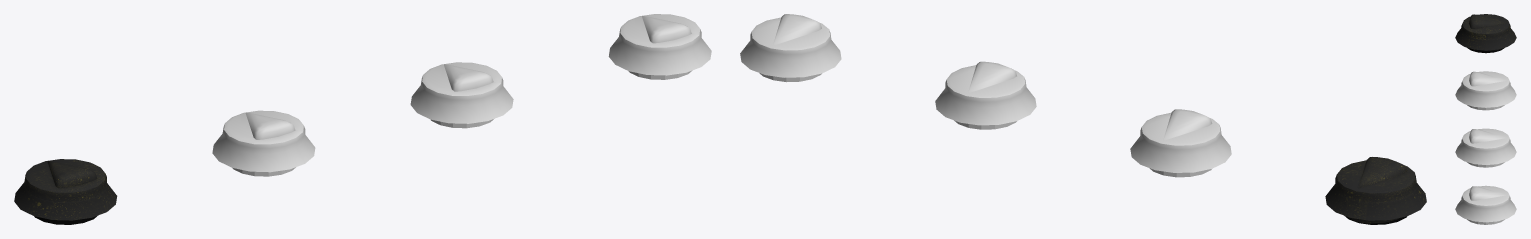
The model's file is Hob Dial.FBX.
The picture shows the model from 3 angles, left to right: view 1: azimuth 30°, elevation 25°; view 2: azimuth 150°, elevation 25°; view 3: azimuth 270°, elevation 25°; orthographic projection. The views are drawn at different scales.
Parts seen in each view (by area): view 1: hob_dial_3, hob_dial_2, hob_dial_4, hob_dial_1; view 2: hob_dial_3, hob_dial_2, hob_dial_1, hob_dial_4; view 3: hob_dial_1, hob_dial_2, hob_dial_4, hob_dial_3.
Part boxes in pixels (<box>): hob_dial_3: <box>410,62,513,128</box>; hob_dial_2: <box>212,110,315,176</box>; hob_dial_4: <box>608,14,711,79</box>; hob_dial_1: <box>14,159,117,224</box>; hob_dial_3: <box>935,61,1036,129</box>; hob_dial_2: <box>1130,109,1231,177</box>; hob_dial_1: <box>1325,157,1426,224</box>; hob_dial_4: <box>740,14,841,82</box>; hob_dial_1: <box>1455,14,1516,53</box>; hob_dial_2: <box>1455,71,1516,110</box>; hob_dial_4: <box>1455,185,1516,224</box>; hob_dial_3: <box>1455,128,1516,167</box>.
Bounding box in the file's own units: 24.98 × 1.55 × 3.29.
